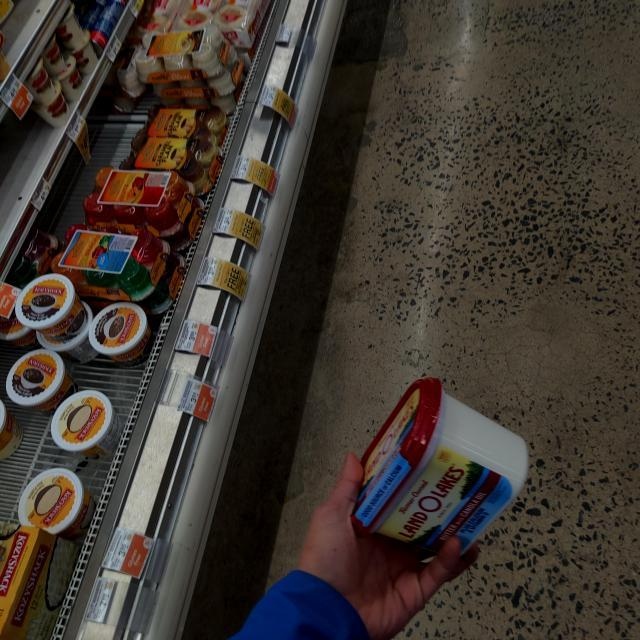Butter: (334, 388, 552, 556)
